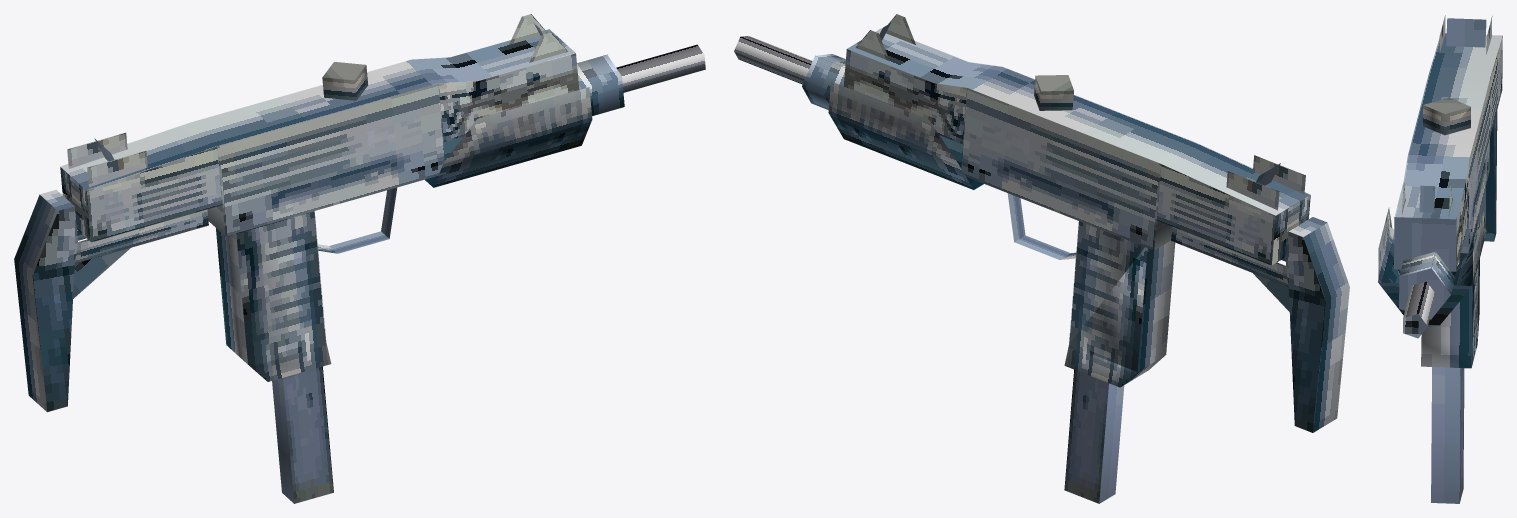
The model's file is Uzi.fbx.
3 renders of one model, left to right at view 1: azimuth 30°, elevation 25°; view 2: azimuth 150°, elevation 25°; view 3: azimuth 270°, elevation 25°, orthographic. The views are drawn at different scales.
Visible parts, largest first — view 1: uzi; view 2: uzi; view 3: uzi.
Part boxes in pixels (x1,y1,x2,y2): uzi: (14,14,705,503); uzi: (734,14,1349,503); uzi: (1378,15,1502,503).
Bounding box in the file's own units: 51.94 × 32.47 × 8.76.
Materials: 1 (1 with a texture image).
